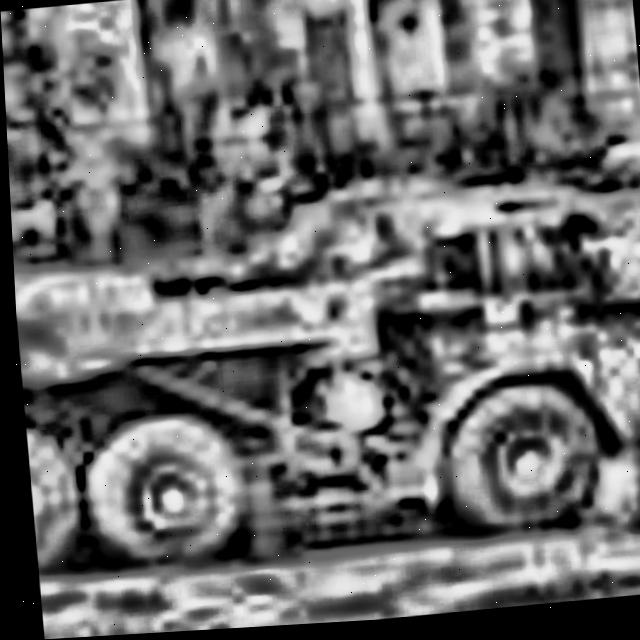dump_truck: (5, 88, 640, 640)
